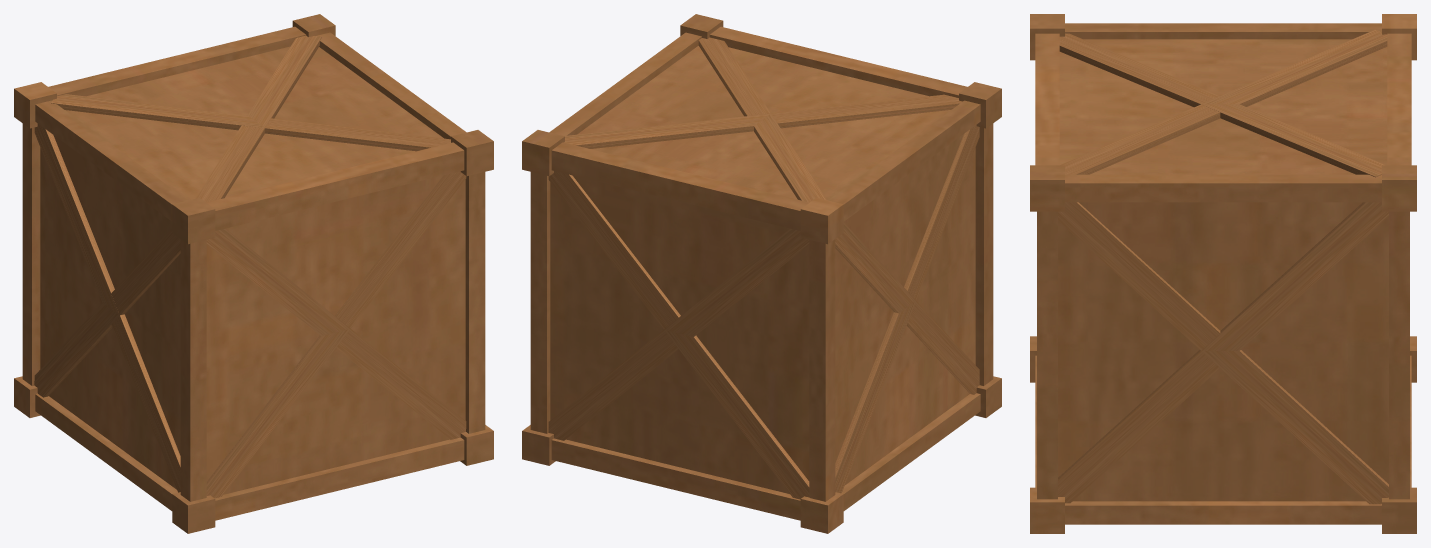
The model's file is wood box.fbx.
The picture shows the model from 3 angles, left to right: view 1: azimuth 30°, elevation 25°; view 2: azimuth 150°, elevation 25°; view 3: azimuth 270°, elevation 25°; orthographic projection. The views are drawn at different scales.
Parts seen in each view (by area): view 1: wood; view 2: wood; view 3: wood.
Part boxes in pixels (x1,y1,x2,y2): wood: (14,14,493,533); wood: (522,14,1001,533); wood: (1030,14,1416,533).
Size of the model in its own units: 84.62 by 84.11 by 83.29.
1 material, 1 textured.
